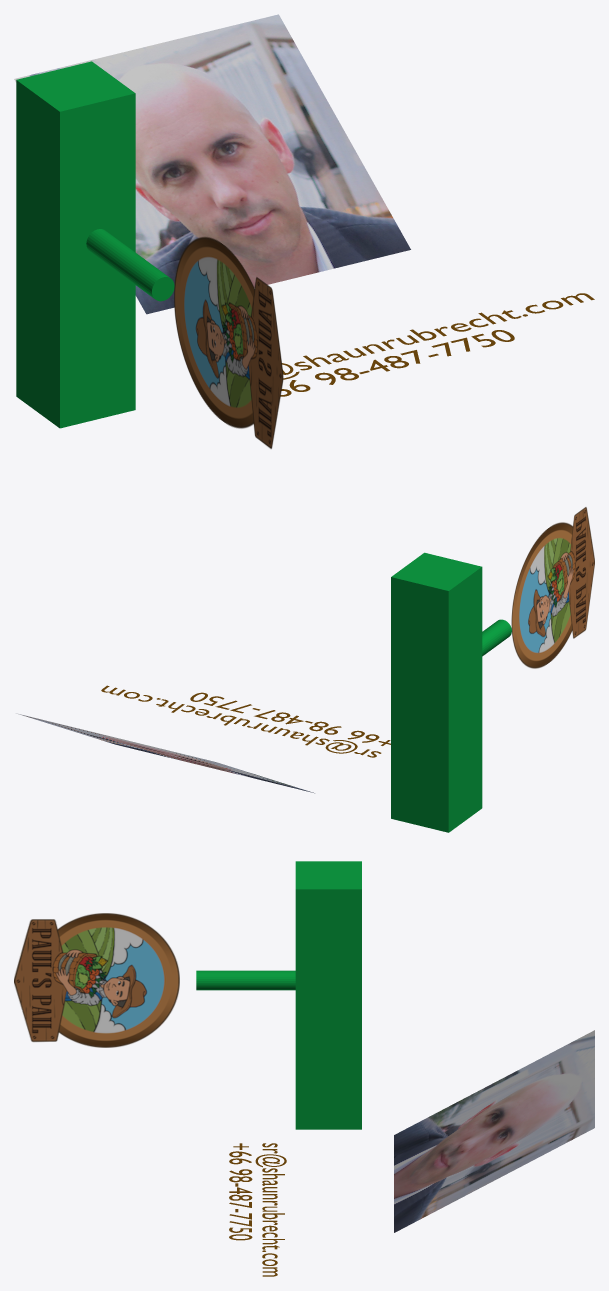
Rendered from motion4.gltf.
3 renders of one model, top to bottom at view 1: azimuth 30°, elevation 25°; view 2: azimuth 150°, elevation 25°; view 3: azimuth 270°, elevation 25°, orthographic. The views are drawn at different scales.
Parts seen in each view (by area): view 1: Sitting, Cube, PPlogo, text, Cylinder; view 2: Cube, PPlogo, text, Sitting, Cylinder; view 3: Sitting, PPlogo, Cube, text, Cylinder.
Part boxes in pixels (bbox=[...]): Sitting: bbox=[14, 14, 410, 314]; Cube: bbox=[16, 61, 135, 428]; PPlogo: bbox=[174, 237, 283, 448]; text: bbox=[280, 293, 594, 396]; Cylinder: bbox=[86, 229, 174, 301]; Cube: bbox=[391, 552, 482, 832]; PPlogo: bbox=[511, 507, 594, 668]; text: bbox=[101, 685, 390, 757]; Sitting: bbox=[16, 713, 314, 793]; Cylinder: bbox=[482, 619, 511, 656]; Sitting: bbox=[394, 1030, 594, 1232]; PPlogo: bbox=[14, 913, 179, 1047]; Cube: bbox=[295, 861, 361, 1129]; text: bbox=[229, 1143, 286, 1276]; Cylinder: bbox=[196, 970, 295, 990].
Bounding box in the file's own units: 13.57 × 8 × 17.53.
5 materials, 2 textured.
